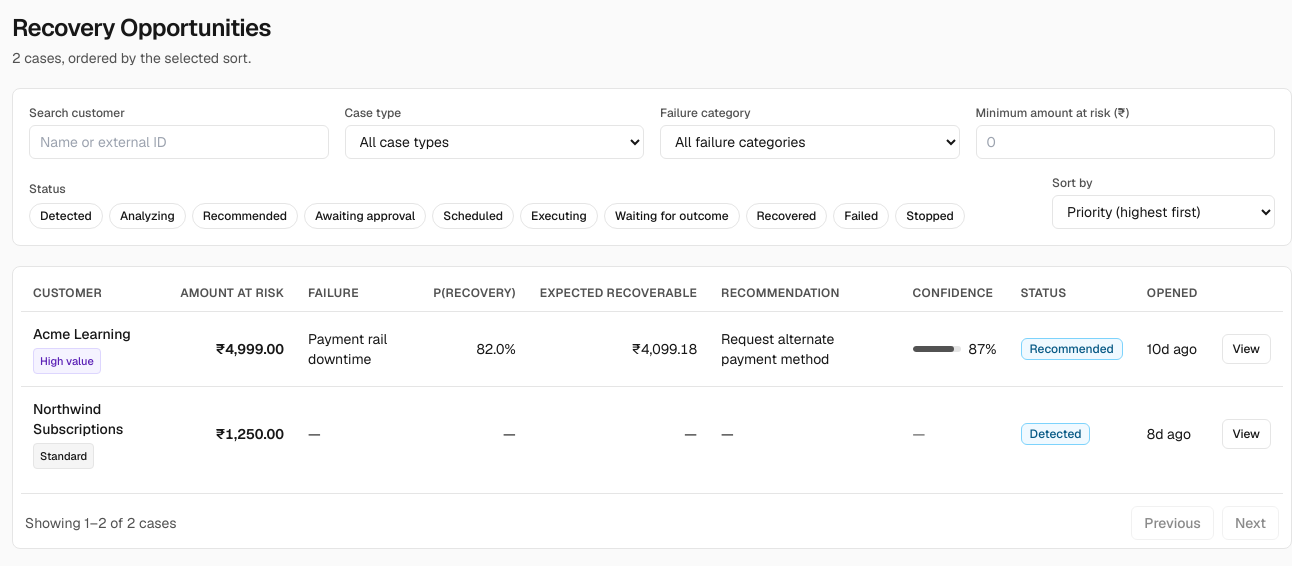
Test: RecoveryClient › renders the filtered empty state when filters are active
Step 1. Click the button "Stopped" → click(930, 216), box [895,203,965,229]
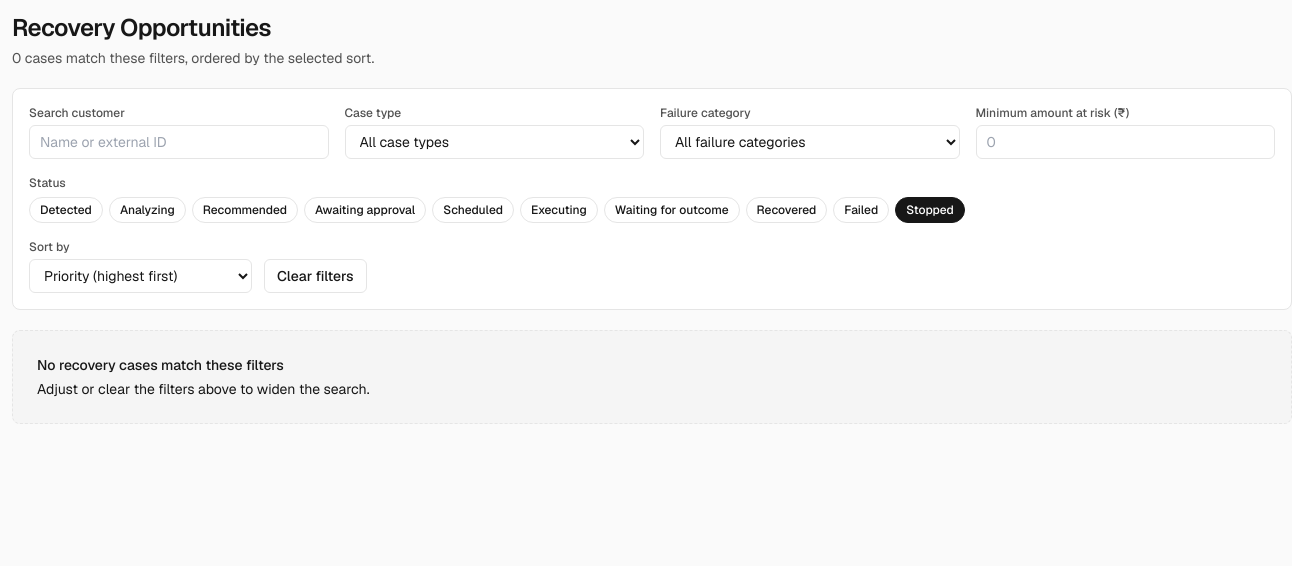
Now the text "No recovery cases match these filters" is shown, box [37,356,284,374]
